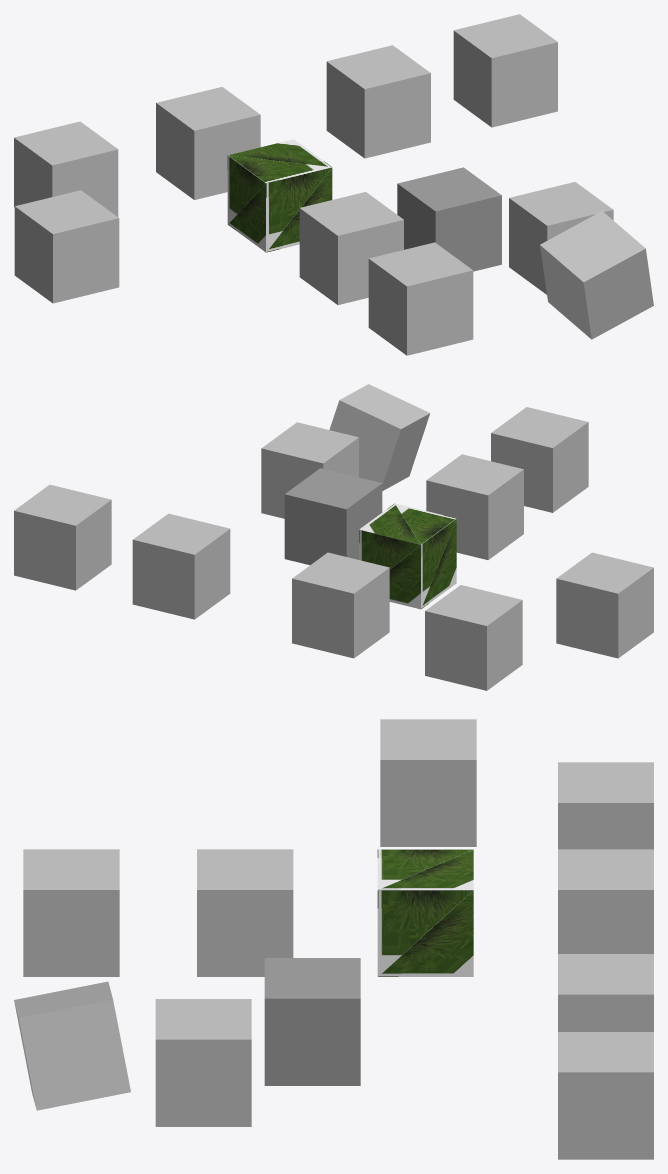
Rendered from newmulti.obj.
3 views of the same model, one above another, from view 1: azimuth 30°, elevation 25°; view 2: azimuth 150°, elevation 25°; view 3: azimuth 270°, elevation 25° (orthographic). The views are drawn at different scales.
Parts seen in each view (by area): view 1: Cube.003_Cube.004, Cube_Cube.001, Cube.009_Cube.010, Cube.007_Cube.008, Cube.006_Cube.007, Cube.002_Cube.003, Cube.005_Cube.006, Cube.001_Cube.002, Cube, Cube.008_Cube.009, Cube.004_Cube.005; view 2: Cube.006_Cube.007, Cube.005_Cube.006, Cube.009_Cube.010, Cube.007_Cube.008, Cube.008_Cube.009, Cube.001_Cube.002, Cube.002_Cube.003, Cube_Cube.001, Cube, Cube.003_Cube.004, Cube.004_Cube.005; view 3: Cube.009_Cube.010, Cube.002_Cube.003, Cube_Cube.001, Cube.004_Cube.005, Cube, Cube.007_Cube.008, Cube.001_Cube.002, Cube.003_Cube.004, Cube.005_Cube.006, Cube.008_Cube.009, Cube.006_Cube.007.
Boxes of the visible parts, bbox=[...] form: Cube.003_Cube.004: bbox=[540, 211, 653, 339]; Cube_Cube.001: bbox=[368, 242, 473, 355]; Cube.009_Cube.010: bbox=[14, 190, 119, 303]; Cube.007_Cube.008: bbox=[453, 14, 557, 127]; Cube.006_Cube.007: bbox=[326, 45, 430, 158]; Cube.002_Cube.003: bbox=[227, 139, 332, 252]; Cube.005_Cube.006: bbox=[156, 87, 260, 199]; Cube.001_Cube.002: bbox=[299, 192, 403, 304]; Cube: bbox=[397, 167, 501, 271]; Cube.008_Cube.009: bbox=[14, 121, 118, 216]; Cube.004_Cube.005: bbox=[509, 182, 613, 294]; Cube.006_Cube.007: bbox=[132, 513, 230, 619]; Cube.005_Cube.006: bbox=[292, 552, 389, 658]; Cube.009_Cube.010: bbox=[556, 552, 653, 658]; Cube.007_Cube.008: bbox=[14, 484, 111, 590]; Cube.008_Cube.009: bbox=[425, 585, 522, 690]; Cube.001_Cube.002: bbox=[426, 454, 523, 559]; Cube.002_Cube.003: bbox=[359, 503, 456, 609]; Cube_Cube.001: bbox=[491, 407, 588, 512]; Cube: bbox=[284, 468, 382, 564]; Cube.003_Cube.004: bbox=[329, 384, 430, 490]; Cube.004_Cube.005: bbox=[261, 422, 358, 518]; Cube.009_Cube.010: bbox=[380, 719, 476, 846]; Cube.002_Cube.003: bbox=[377, 849, 473, 976]; Cube_Cube.001: bbox=[23, 849, 119, 976]; Cube.004_Cube.005: bbox=[155, 999, 251, 1126]; Cube: bbox=[264, 958, 360, 1085]; Cube.007_Cube.008: bbox=[558, 1032, 653, 1159]; Cube.001_Cube.002: bbox=[197, 849, 293, 976]; Cube.003_Cube.004: bbox=[14, 981, 130, 1110]; Cube.005_Cube.006: bbox=[558, 849, 653, 953]; Cube.008_Cube.009: bbox=[558, 762, 653, 849]; Cube.006_Cube.007: bbox=[558, 954, 653, 1031].
Size of the model in its own units: 17.38 by 2.93 by 13.31.
11 materials, 1 textured.
